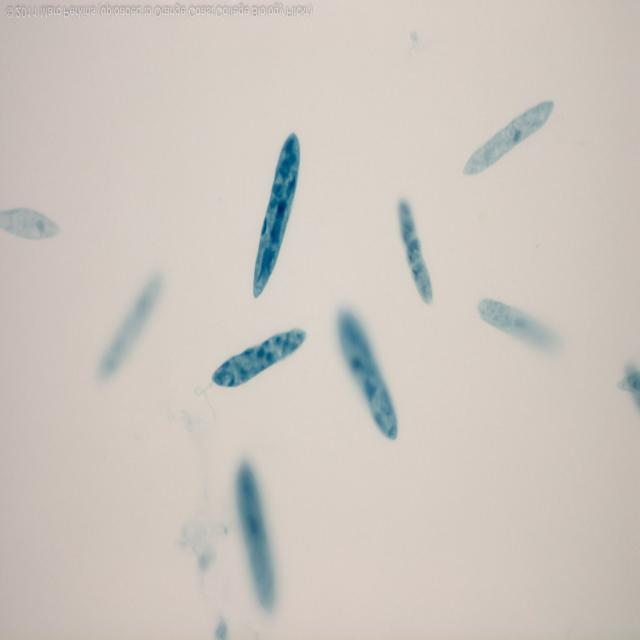Amoeba: (251, 133, 301, 301)
